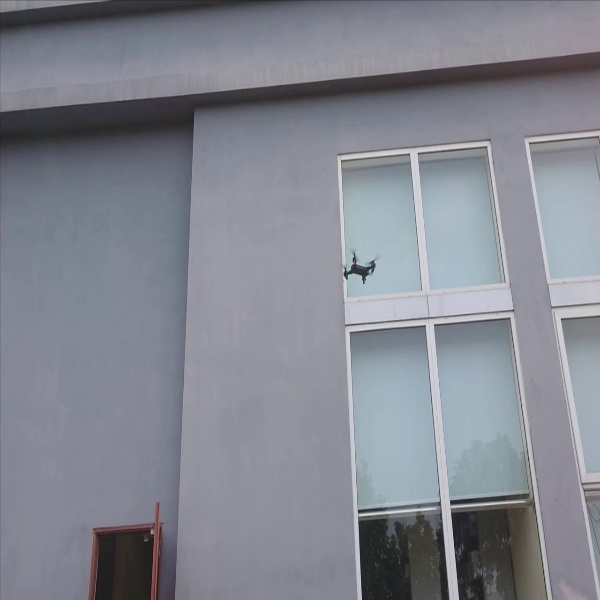drone: (335, 240, 379, 290)
